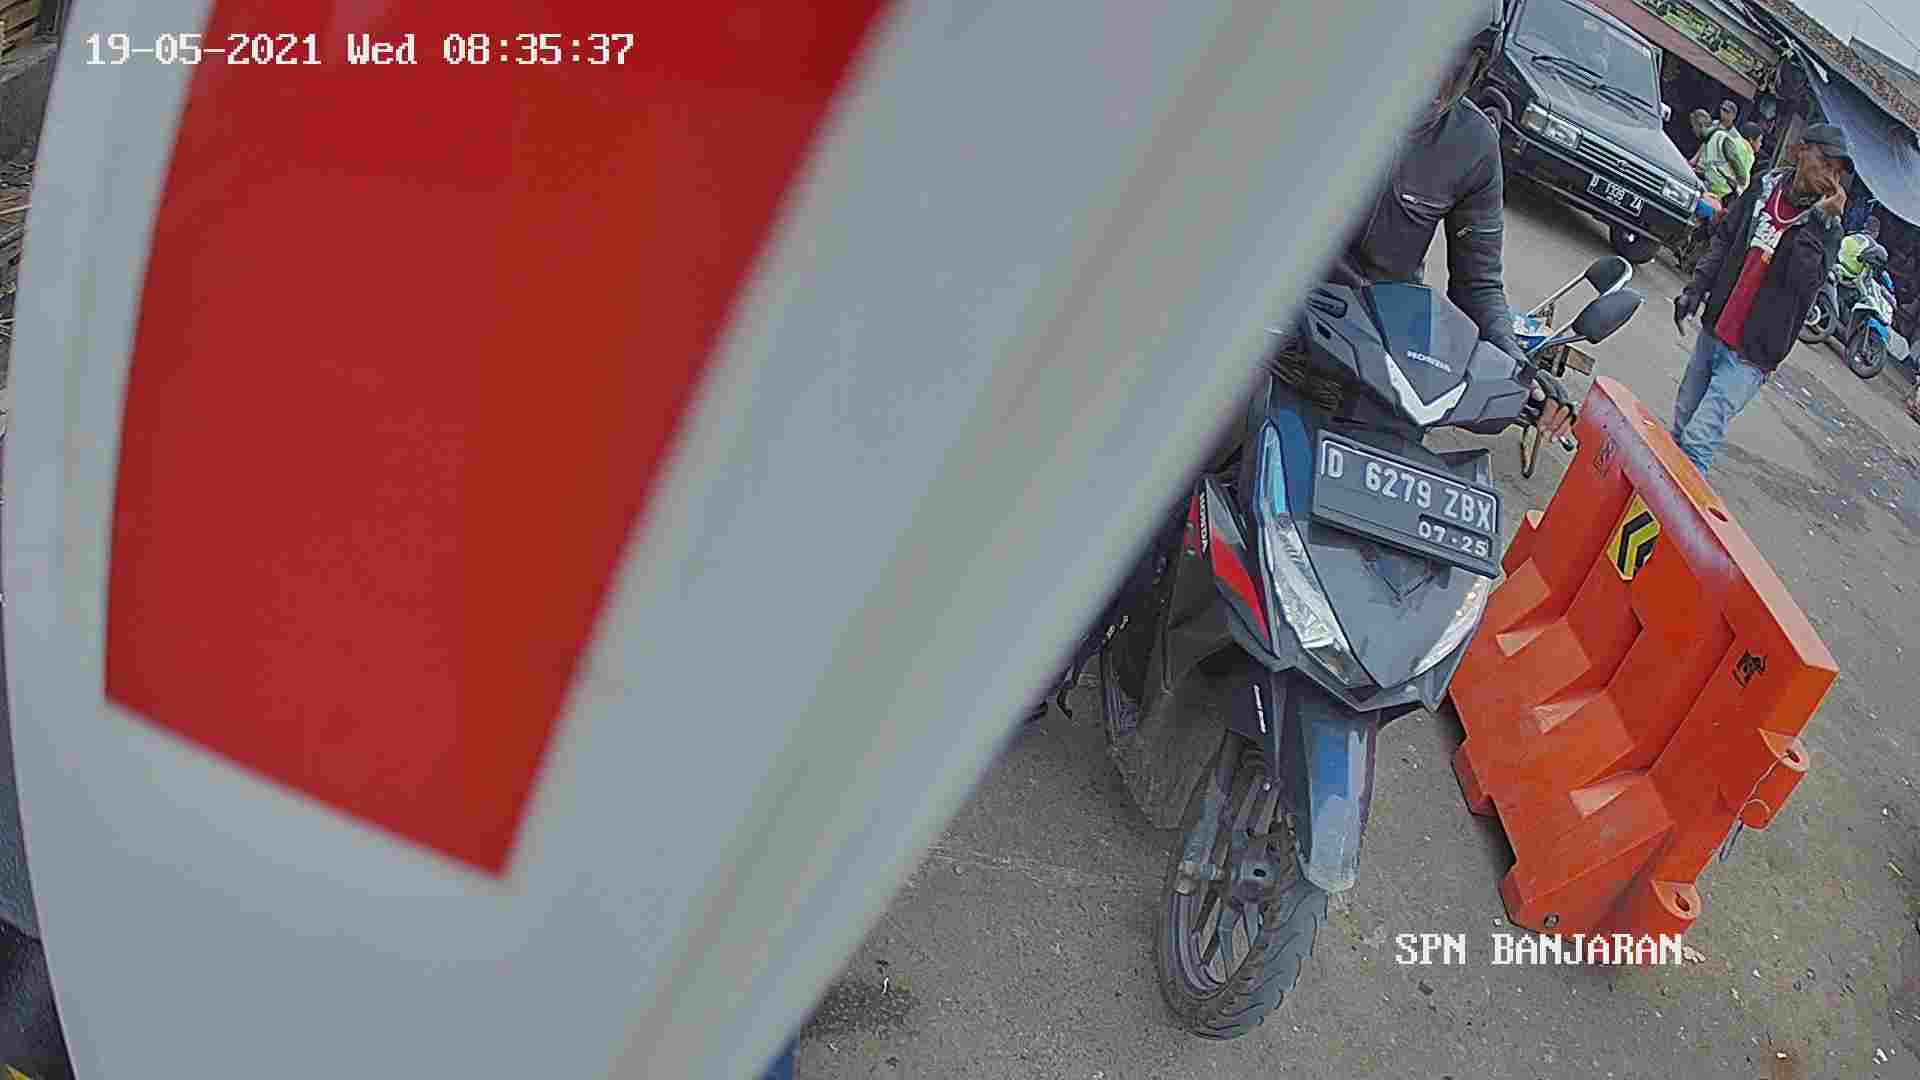motor: (1096, 265, 1564, 1035)
